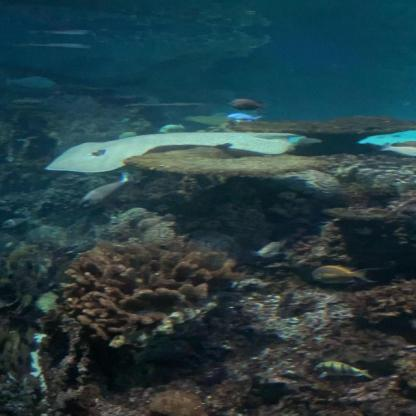fish: (72, 170, 141, 209), (308, 262, 385, 290), (309, 357, 381, 383), (254, 239, 289, 260), (226, 94, 263, 112), (226, 112, 264, 122), (0, 217, 30, 229)
stingray: (45, 130, 294, 172)
